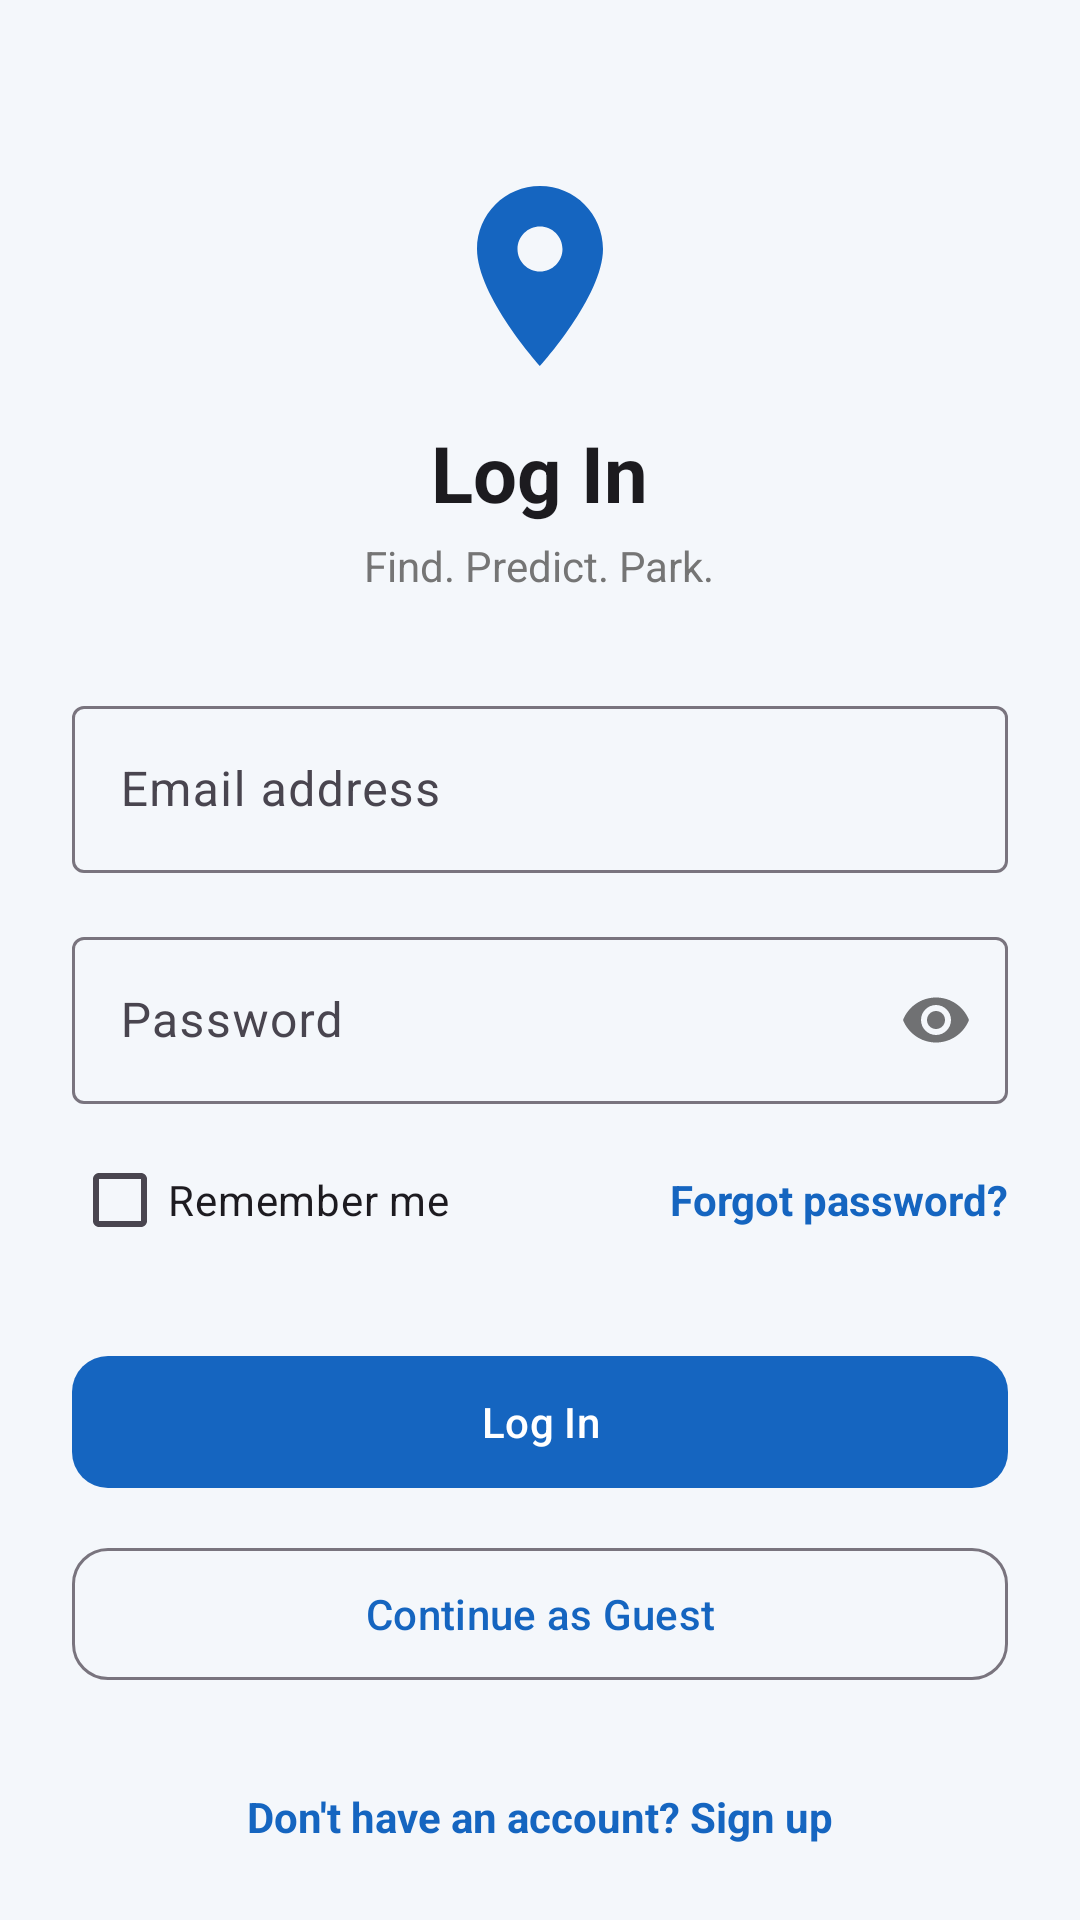

Icon bounding boxes for this 1080px x 1920px phone screenshot, format bbox=(x1, y1, x2, y2):
pin: bbox=(477, 186, 603, 366)
